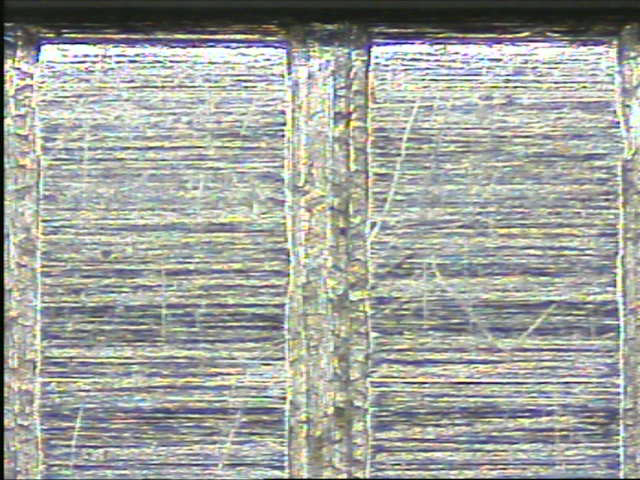line: (281, 33, 376, 473)
